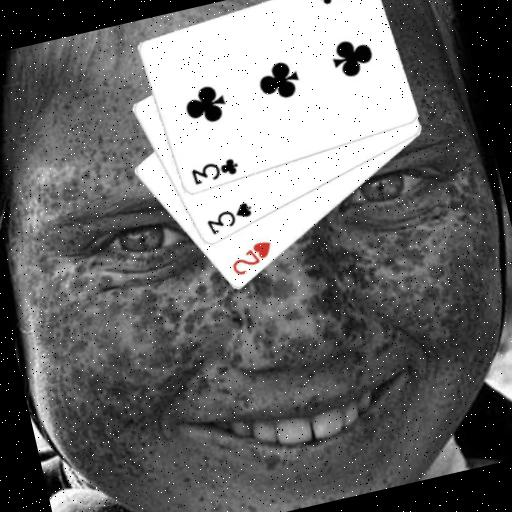2H: (225, 237, 278, 279)
3C: (187, 155, 242, 189), (313, 0, 368, 7)
3S: (201, 198, 257, 238)
